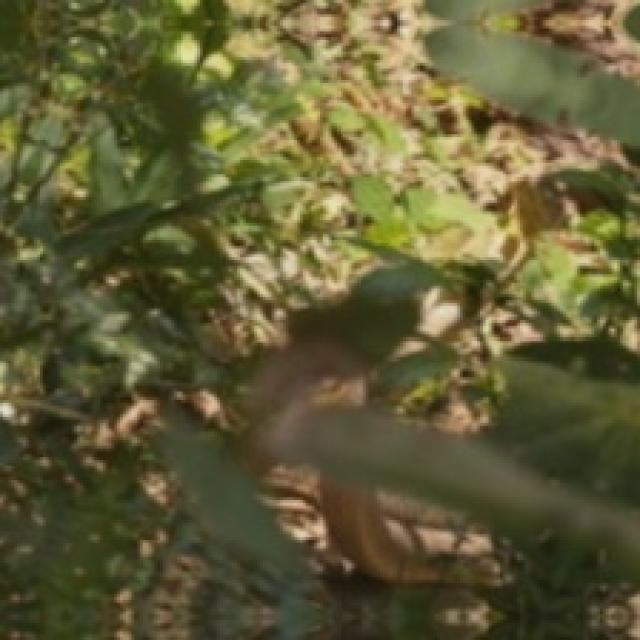king cobra: (320, 475, 501, 586)
